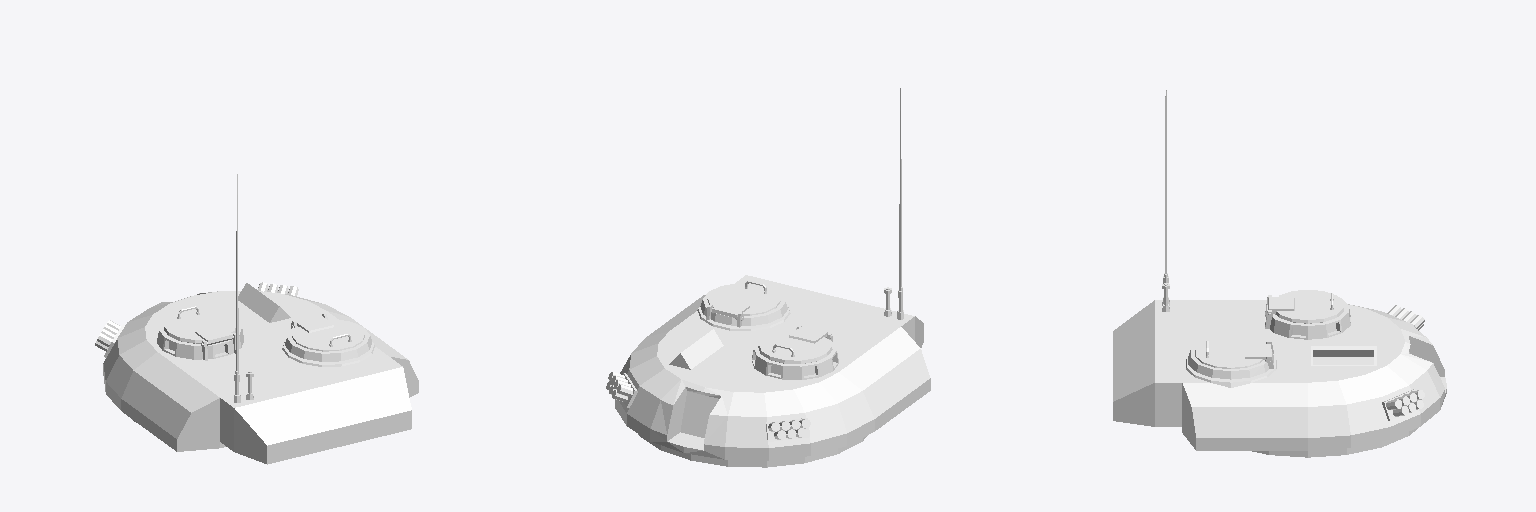
Rendered from turret.obj.
3 views of the same model, side by side, from view 1: azimuth 30°, elevation 25°; view 2: azimuth 150°, elevation 25°; view 3: azimuth 270°, elevation 25° (orthographic).
Visible parts, largest first — view 1: submesh1, submesh2, submesh0; view 2: submesh1, submesh2, submesh0; view 3: submesh1, submesh2, submesh0.
Part boxes in pixels (bbox=[...]): submesh1: bbox=[95, 174, 418, 464]; submesh2: bbox=[164, 306, 364, 351]; submesh0: bbox=[285, 313, 371, 361]; submesh1: bbox=[606, 88, 930, 467]; submesh2: bbox=[707, 280, 832, 363]; submesh0: bbox=[700, 283, 787, 327]; submesh1: bbox=[1113, 90, 1446, 457]; submesh2: bbox=[1195, 290, 1343, 368]; submesh0: bbox=[1188, 336, 1273, 379].
Size of the model in its own units: 2 by 2.35 by 2.4.